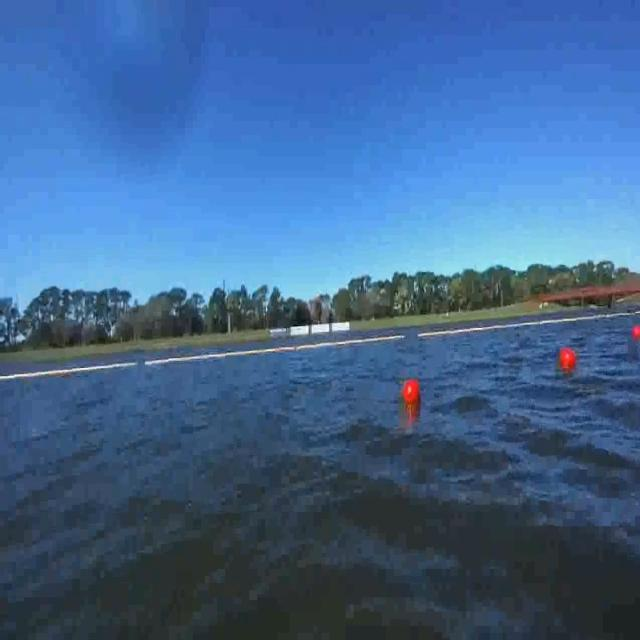red-buoy: (404, 377, 422, 401), (559, 349, 577, 372), (632, 325, 640, 340)
